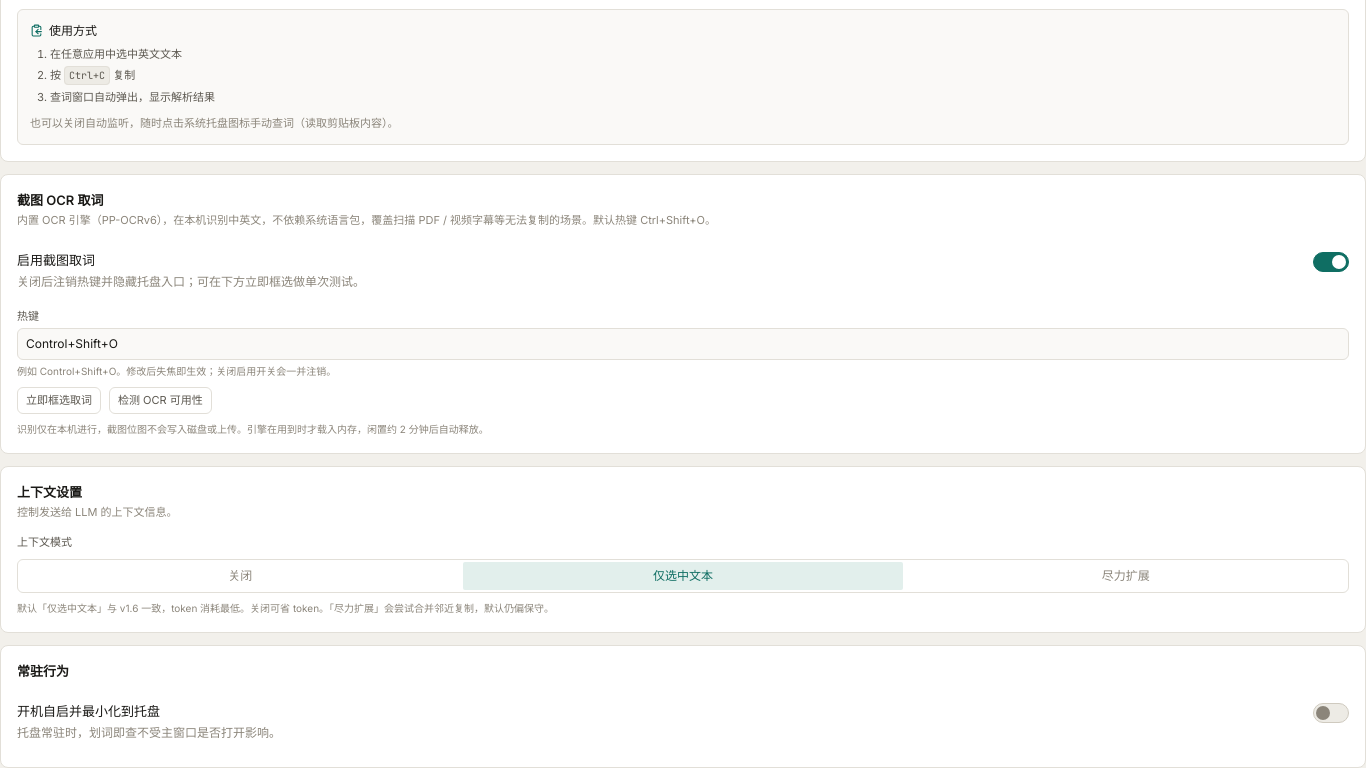
Scenario: the settings of capturing text › checking that text can be recognized in a picture › says that the check itself failed, with the reason
The image size is (1366, 768).
(page scrolled)
Click the button "检测 OCR 可用性".
click(160, 400)  # box [109, 387, 212, 414]
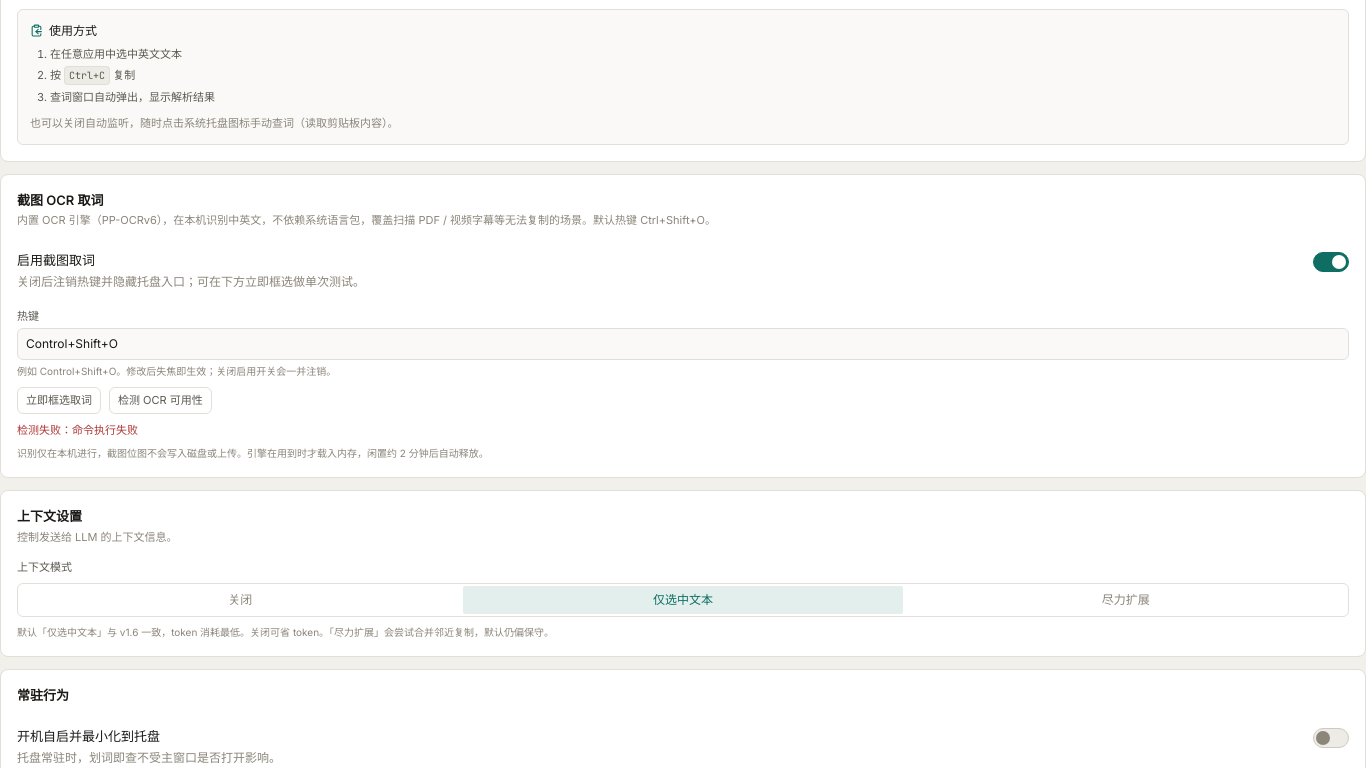
Expected: the message reads "检测失败：命令执行失败", [17, 423, 138, 437]
